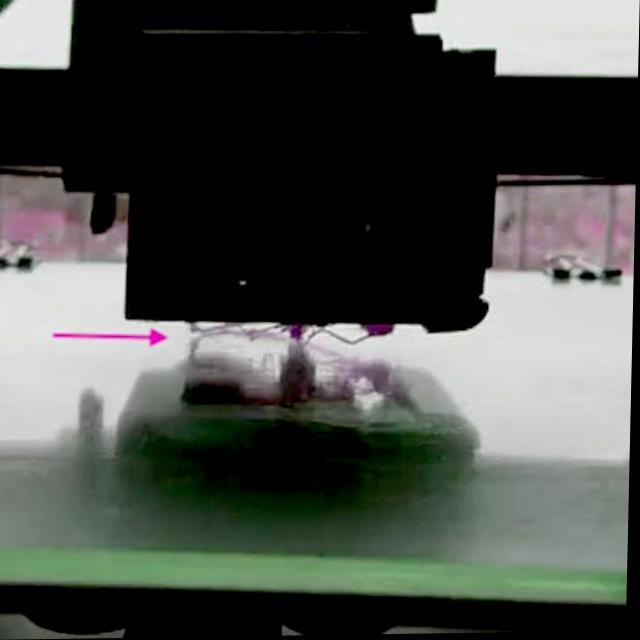spaghetti: (190, 318, 376, 349)
